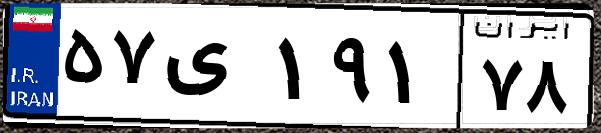1: (270, 28, 330, 110), (385, 28, 445, 110)
5: (57, 26, 110, 100)
7: (475, 38, 525, 113), (110, 28, 158, 98)
8: (525, 38, 570, 115)
9: (330, 28, 385, 110)
ی: (158, 20, 270, 120)
